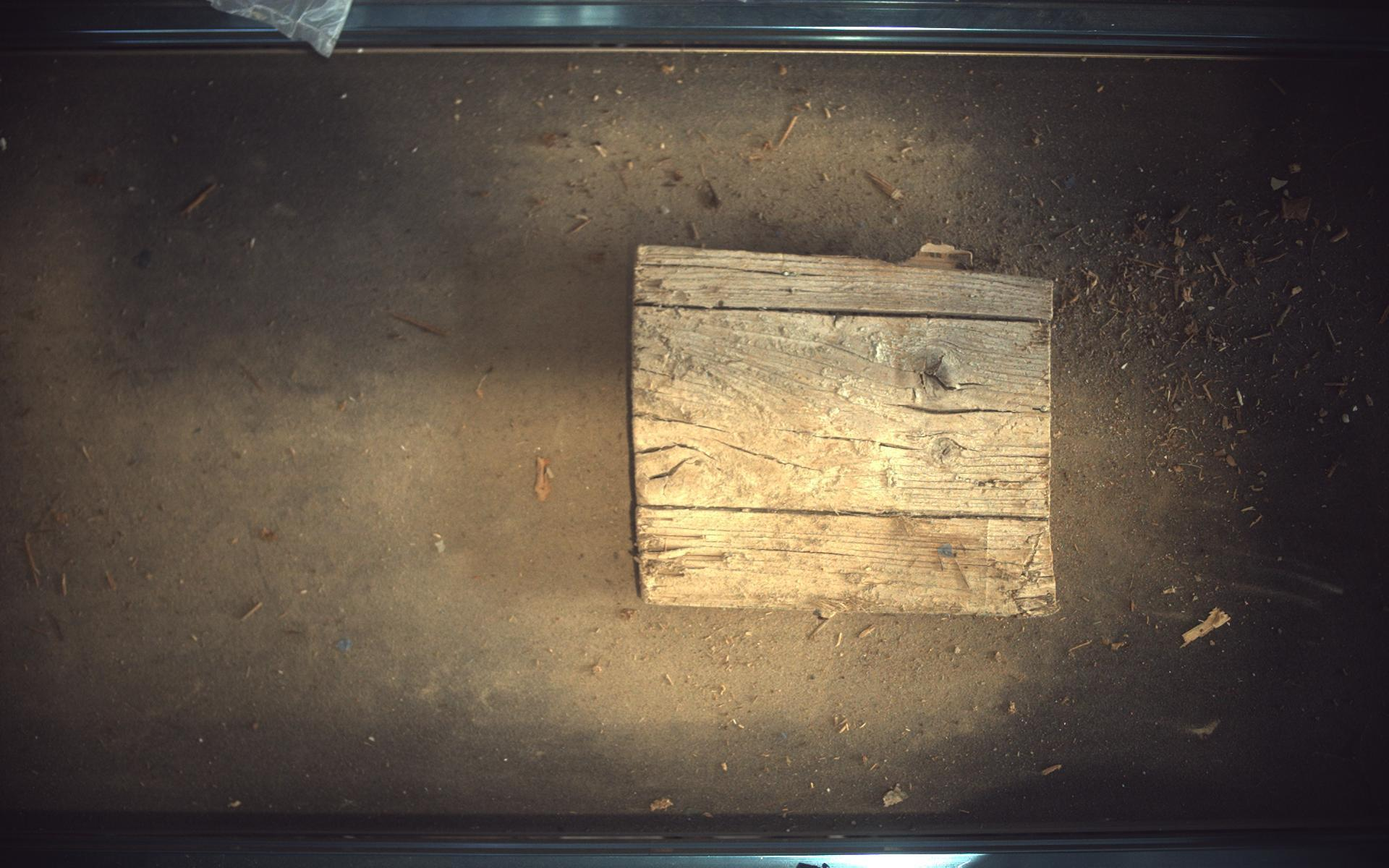wood: (632, 245, 1058, 616)
